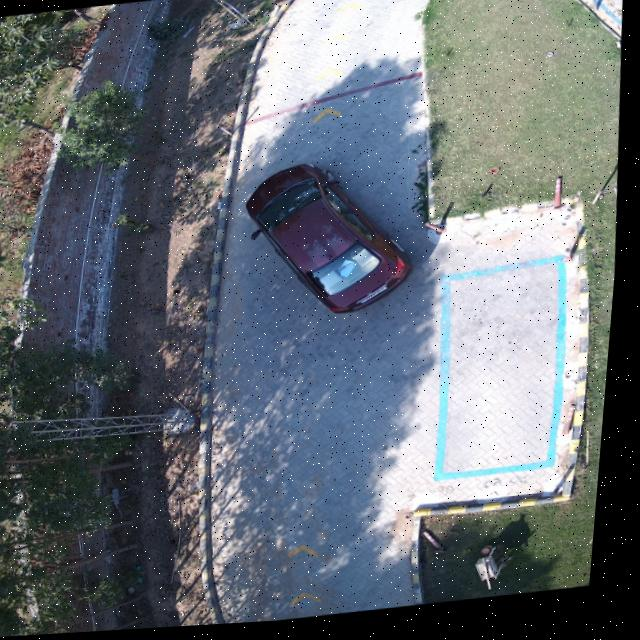car: (250, 166, 418, 318)
